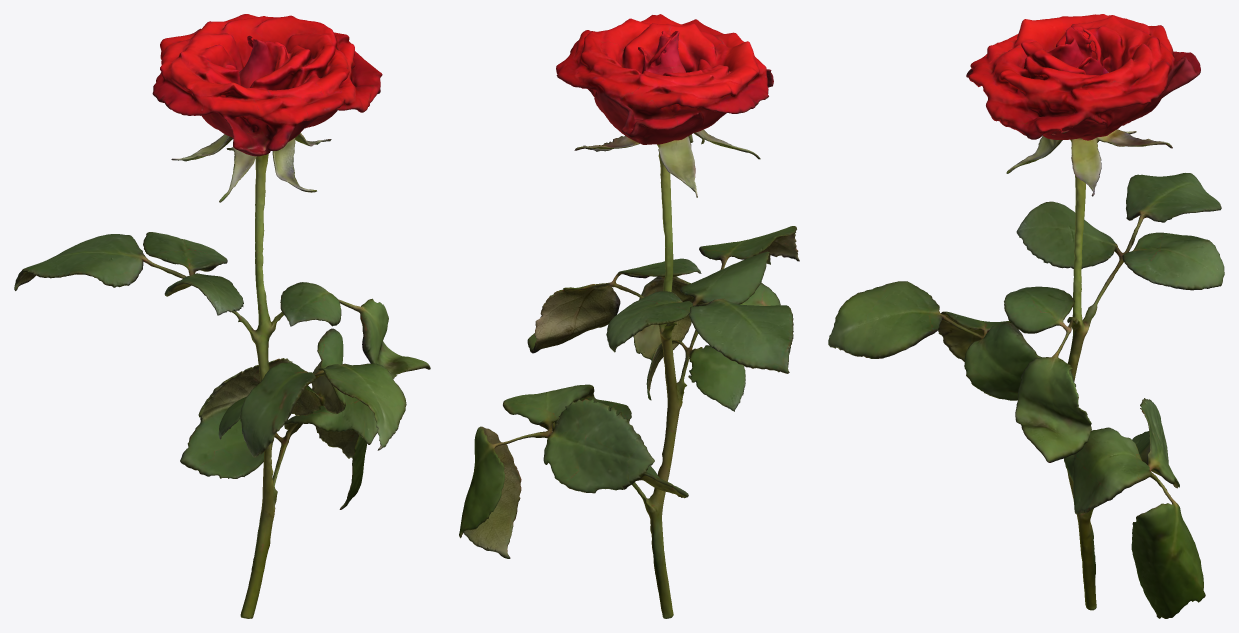
The model's file is rose-optimized.glb.
3 views of the same model, side by side, from view 1: azimuth 30°, elevation 25°; view 2: azimuth 150°, elevation 25°; view 3: azimuth 270°, elevation 25° (orthographic).
Parts seen in each view (by area): view 1: Object_2; view 2: Object_2; view 3: Object_2.
Part boxes in pixels (<box>): Object_2: <box>14,14,430,618</box>; Object_2: <box>459,14,799,618</box>; Object_2: <box>828,14,1224,618</box>.
Bounding box in the file's own units: 1.51 × 2.5 × 1.54.
1 material, 1 textured.
